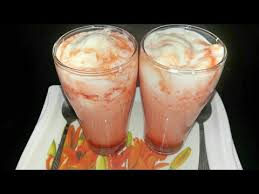jigirthanda: (140, 37, 219, 153), (56, 37, 135, 147)
